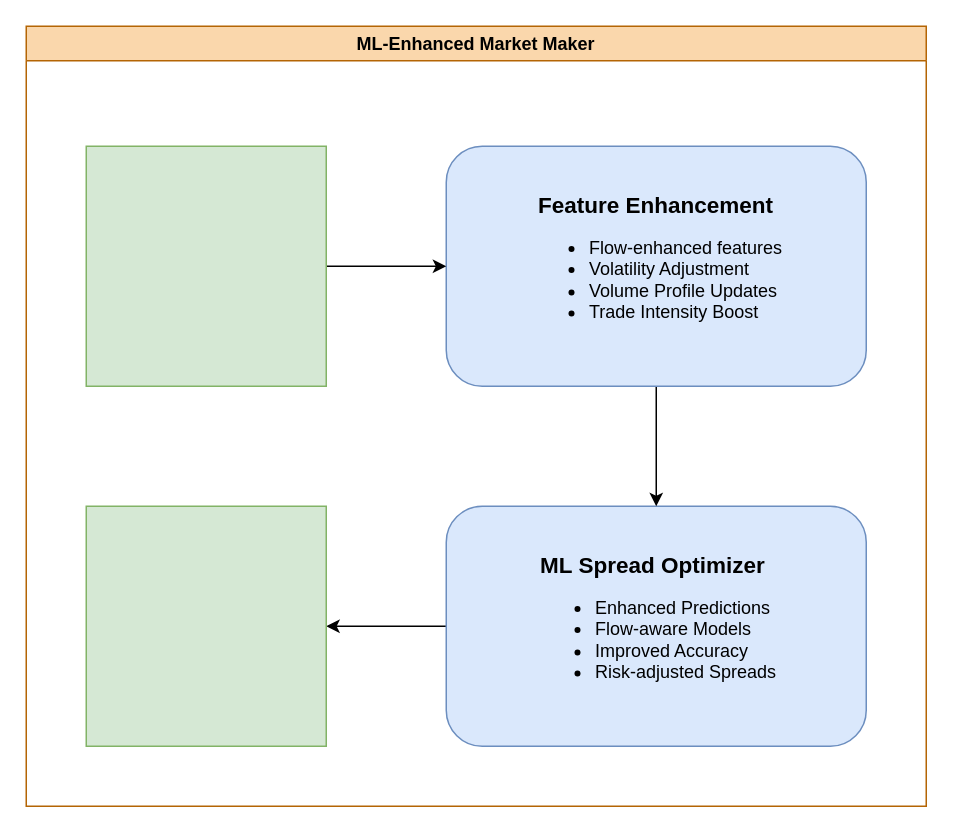
Some shapes in this 953 by 833 pixel diagram are drawn without their labels. Each missing label, with the centre of its shape:
"Flow Analysis Flow Metrics Imbalance Data Velocity Data" belongs at [205,265].
"Spread Calculation Base Spread Flow Adjustment Final Spread" belongs at [205,625].
